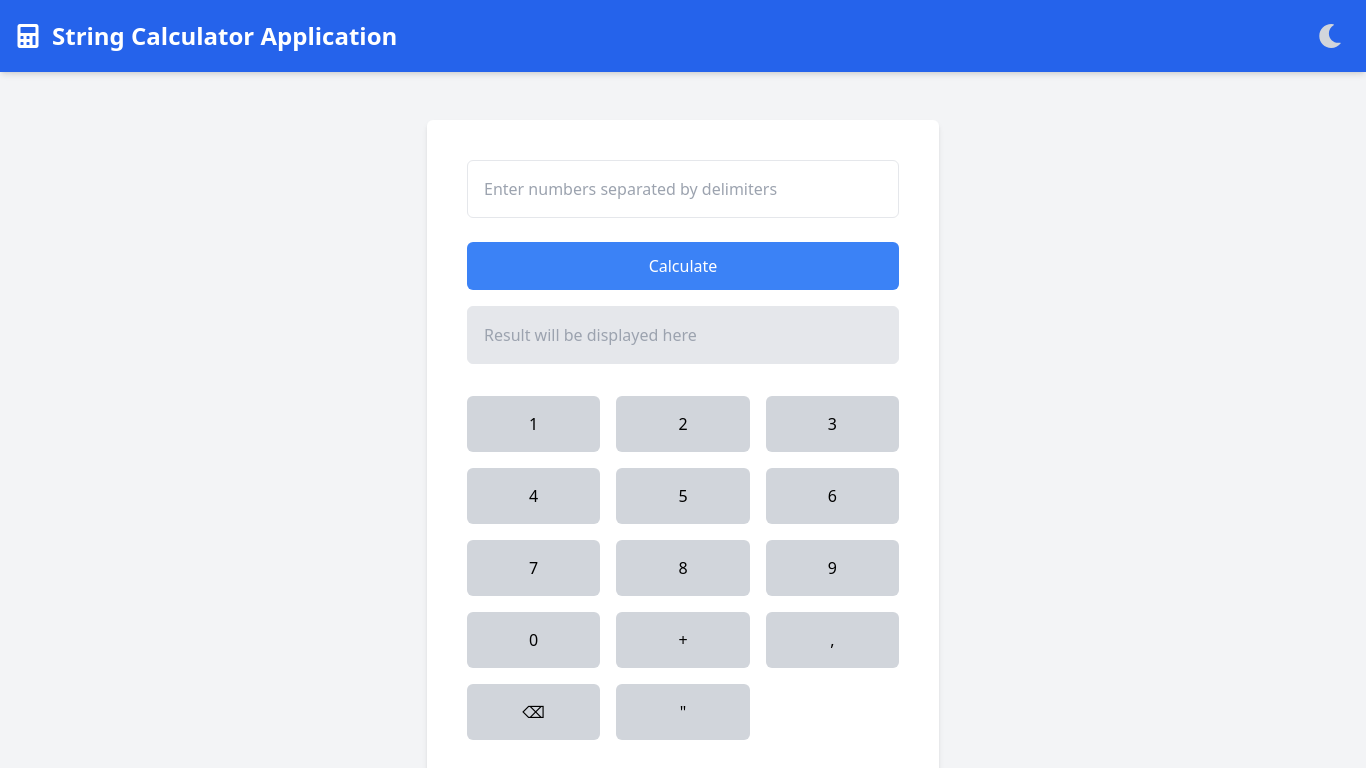
HomePage Component › displays the result after clicking the calculate button
// Enter numbers into the input field
Type "1,2,3" into the field with placeholder "Enter numbers separated by delimiters". click: (683, 189)
box: [467,160,899,218]
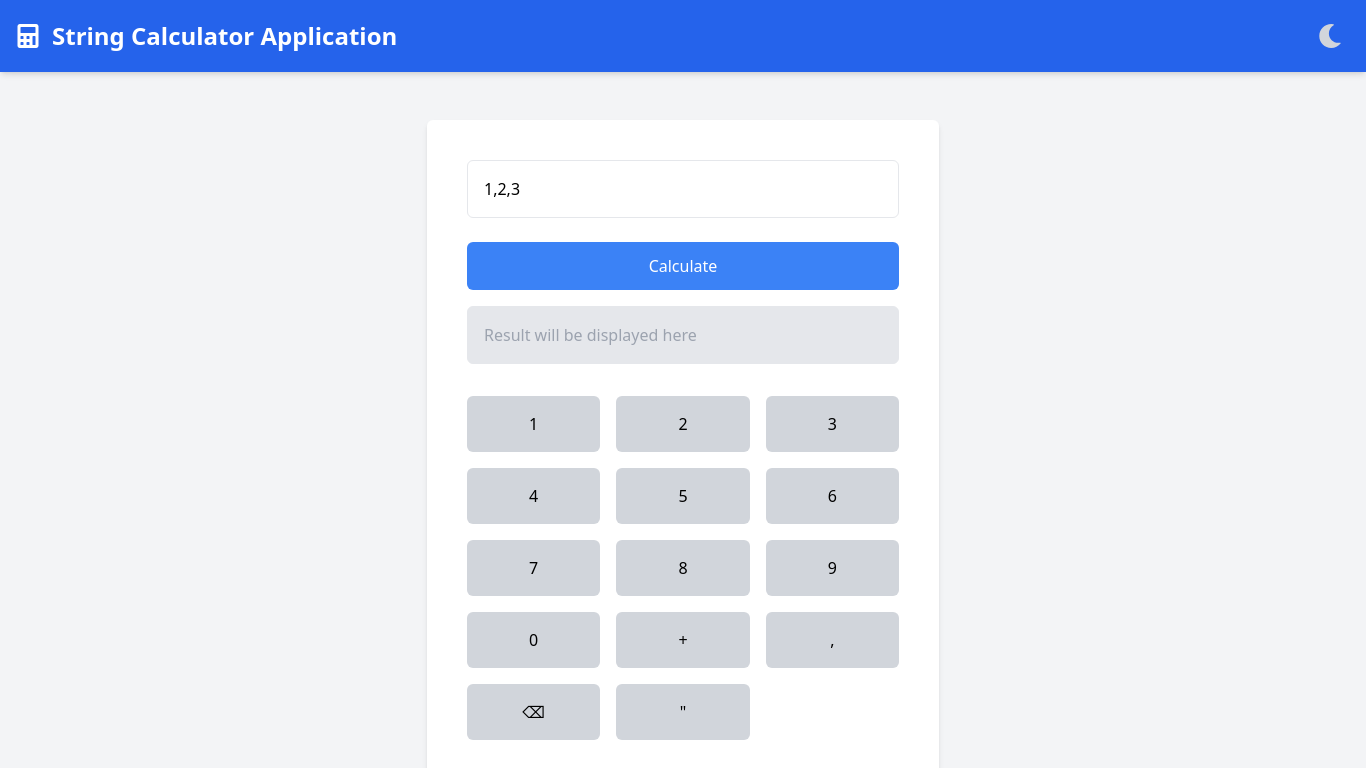
Click the button "Calculate". click: (683, 266)
box: [467,242,899,290]
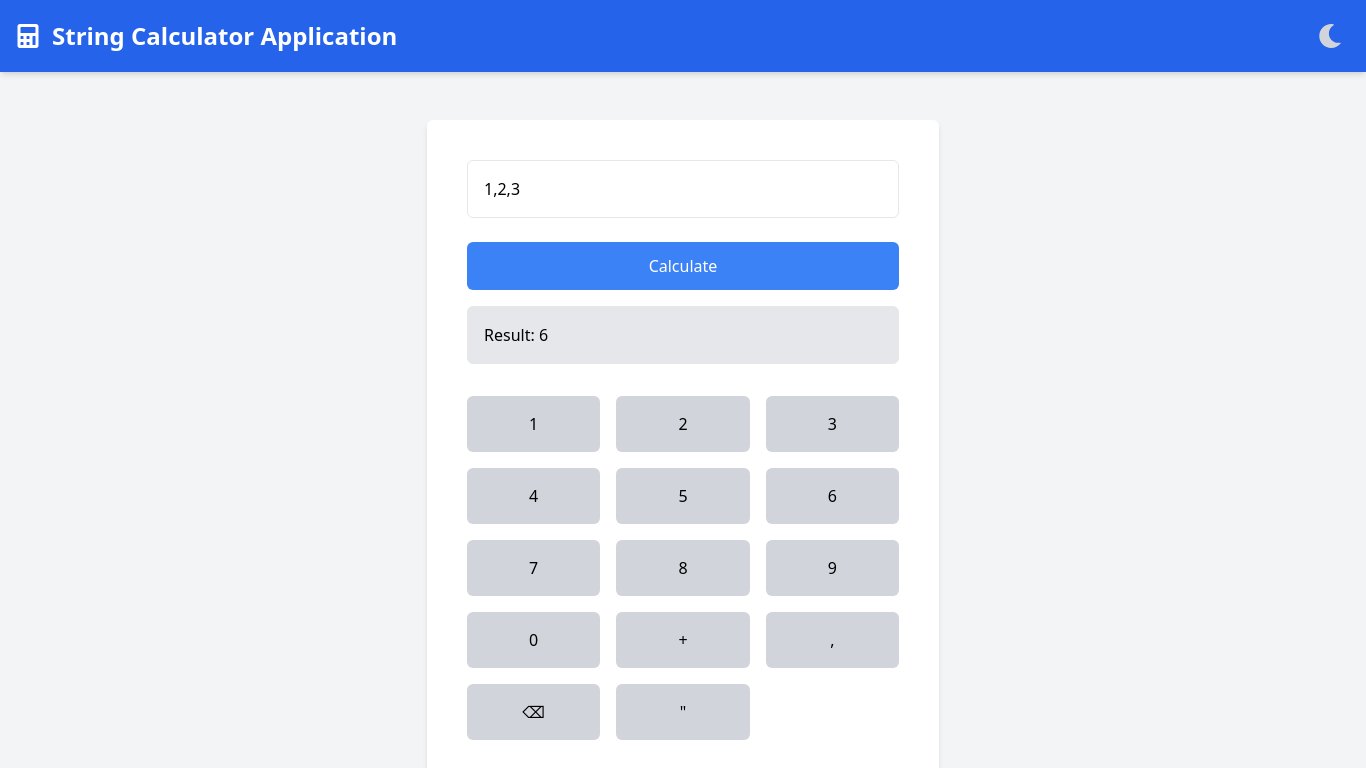
Now the 2nd field showing "result: 6" is shown, box [467,306,899,364]
